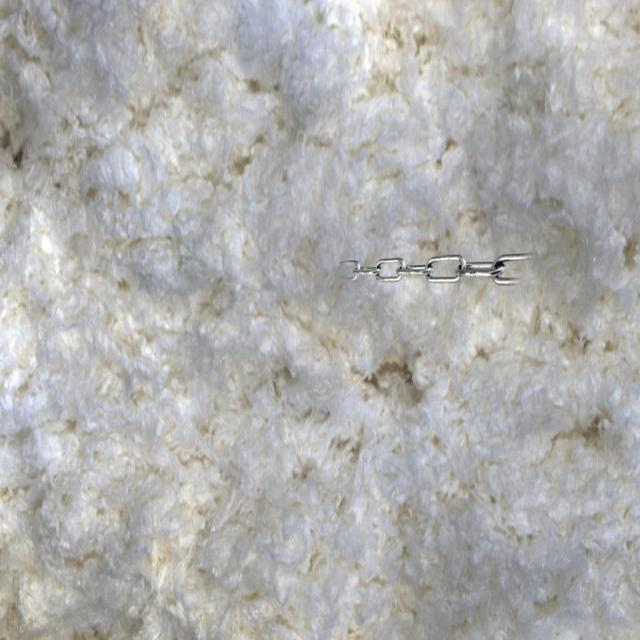dust: (324, 191, 549, 386)
